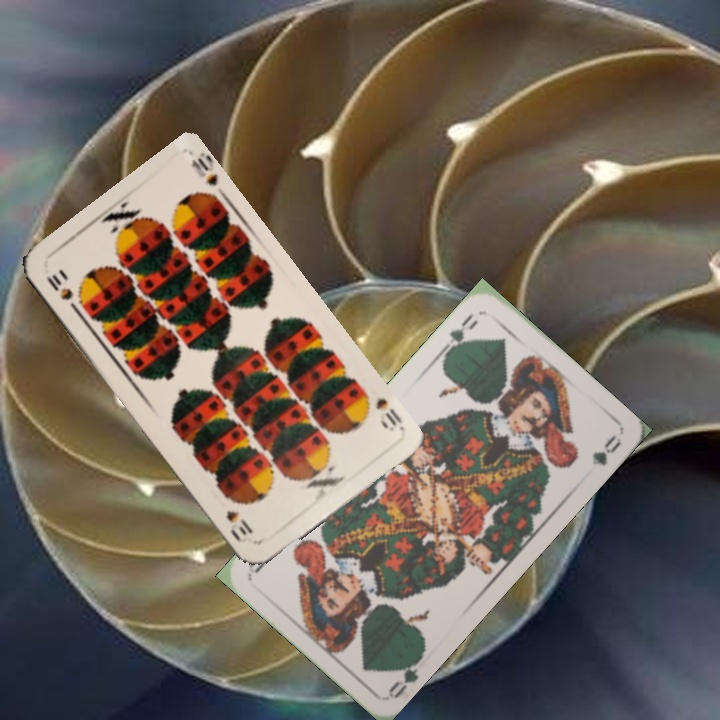GO: (384, 648, 427, 701), (437, 308, 481, 357)
S10: (42, 270, 82, 316), (371, 393, 405, 434)
